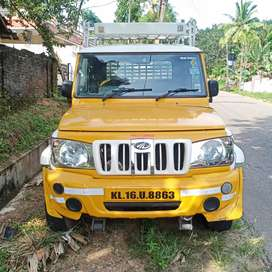KL16U8863: (104, 188, 181, 201)
